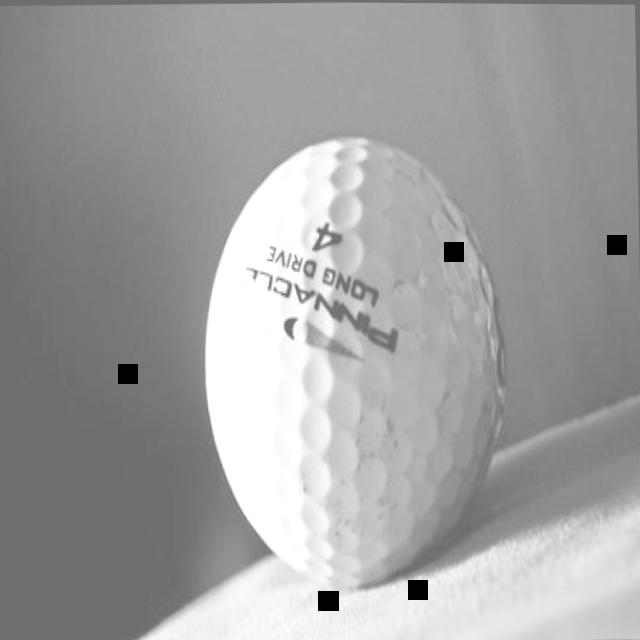golf ball: (190, 109, 512, 598)
